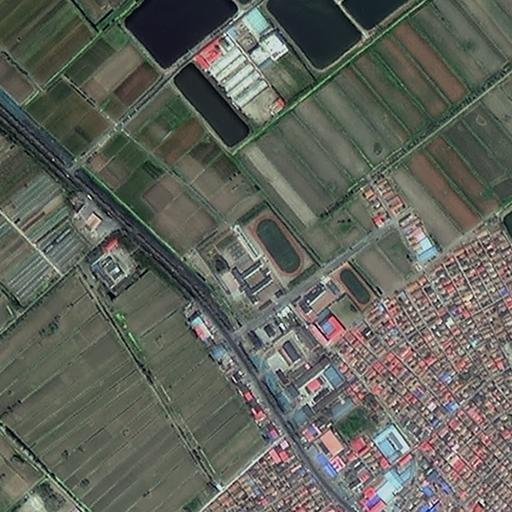school: (198, 200, 313, 320), (296, 258, 378, 343)
